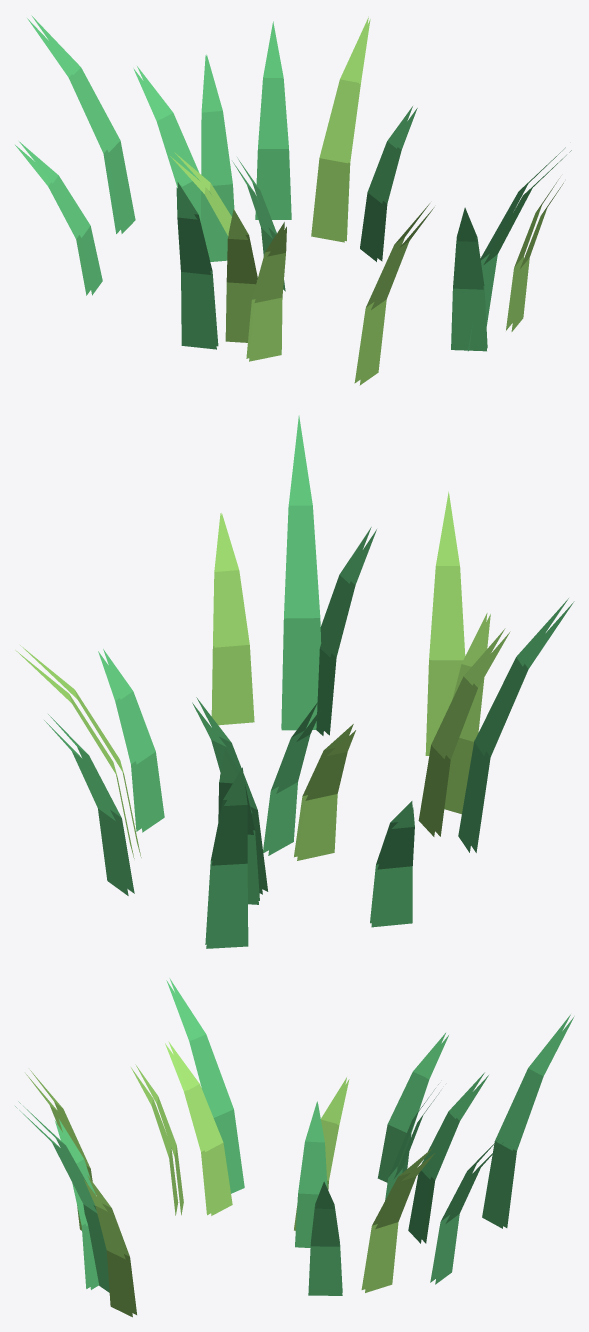
File: sea_grass_patch.fbx
3 views of the same model, one above another, from view 1: azimuth 30°, elevation 25°; view 2: azimuth 150°, elevation 25°; view 3: azimuth 270°, elevation 25° (orthographic). The views are drawn at different scales.
Visible parts, largest first — view 1: sea_grass_patch; view 2: sea_grass_patch; view 3: sea_grass_patch.
Part boxes in pixels (bbox=[...]): sea_grass_patch: bbox=[15, 15, 571, 385]; sea_grass_patch: bbox=[15, 415, 574, 948]; sea_grass_patch: bbox=[15, 978, 574, 1317].
Size of the model in its own units: 480 by 286 by 689.
1 material, 1 textured.
